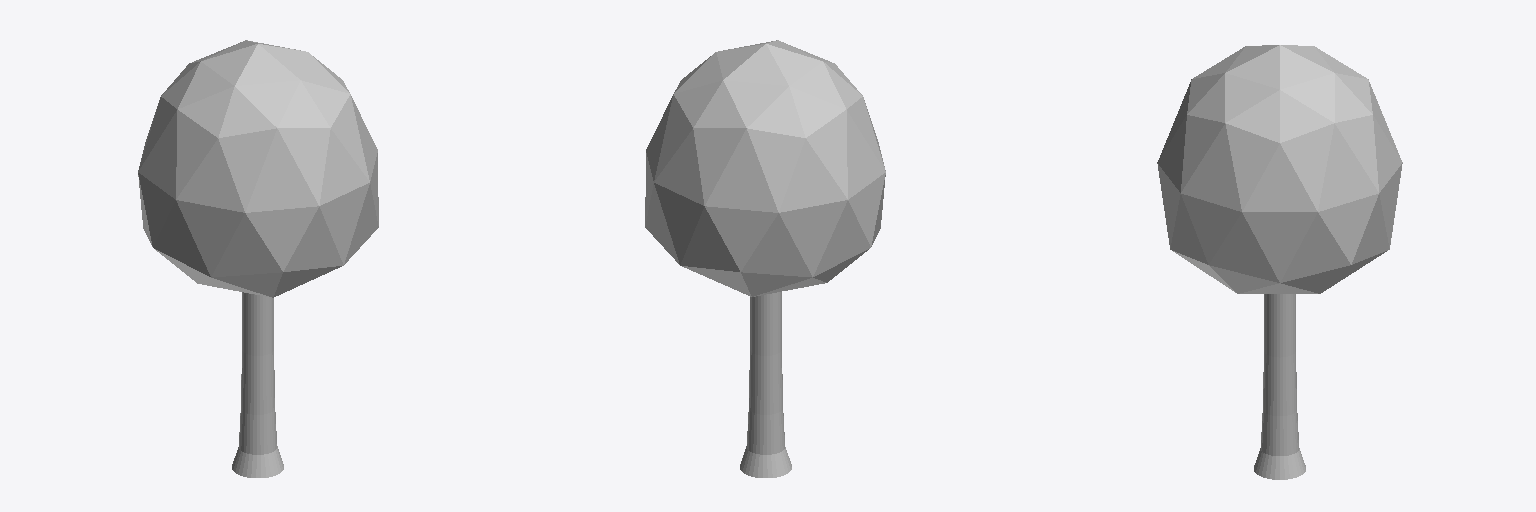
The model's file is broad-leaved_tree.obj.
The picture shows the model from 3 angles: view 1: azimuth 30°, elevation 25°; view 2: azimuth 150°, elevation 25°; view 3: azimuth 270°, elevation 25°; orthographic projection.
Visible parts, largest first — view 1: Icosphere, Cylinder_Cylinder.007; view 2: Icosphere, Cylinder_Cylinder.007; view 3: Icosphere, Cylinder_Cylinder.007.
Boxes of the visible parts, box(x1,y1,x2,y2) form: Icosphere: box(138, 40, 378, 297); Cylinder_Cylinder.007: box(232, 292, 283, 477); Icosphere: box(645, 40, 885, 296); Cylinder_Cylinder.007: box(740, 292, 791, 477); Icosphere: box(1157, 45, 1402, 293); Cylinder_Cylinder.007: box(1254, 294, 1305, 479).
Bounding box in the file's own units: 0.4002 × 0.7858 × 0.4125.